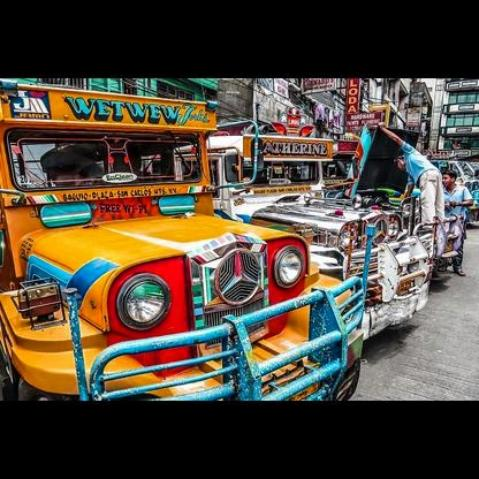jeepney: (0, 82, 367, 402), (173, 122, 429, 339)
